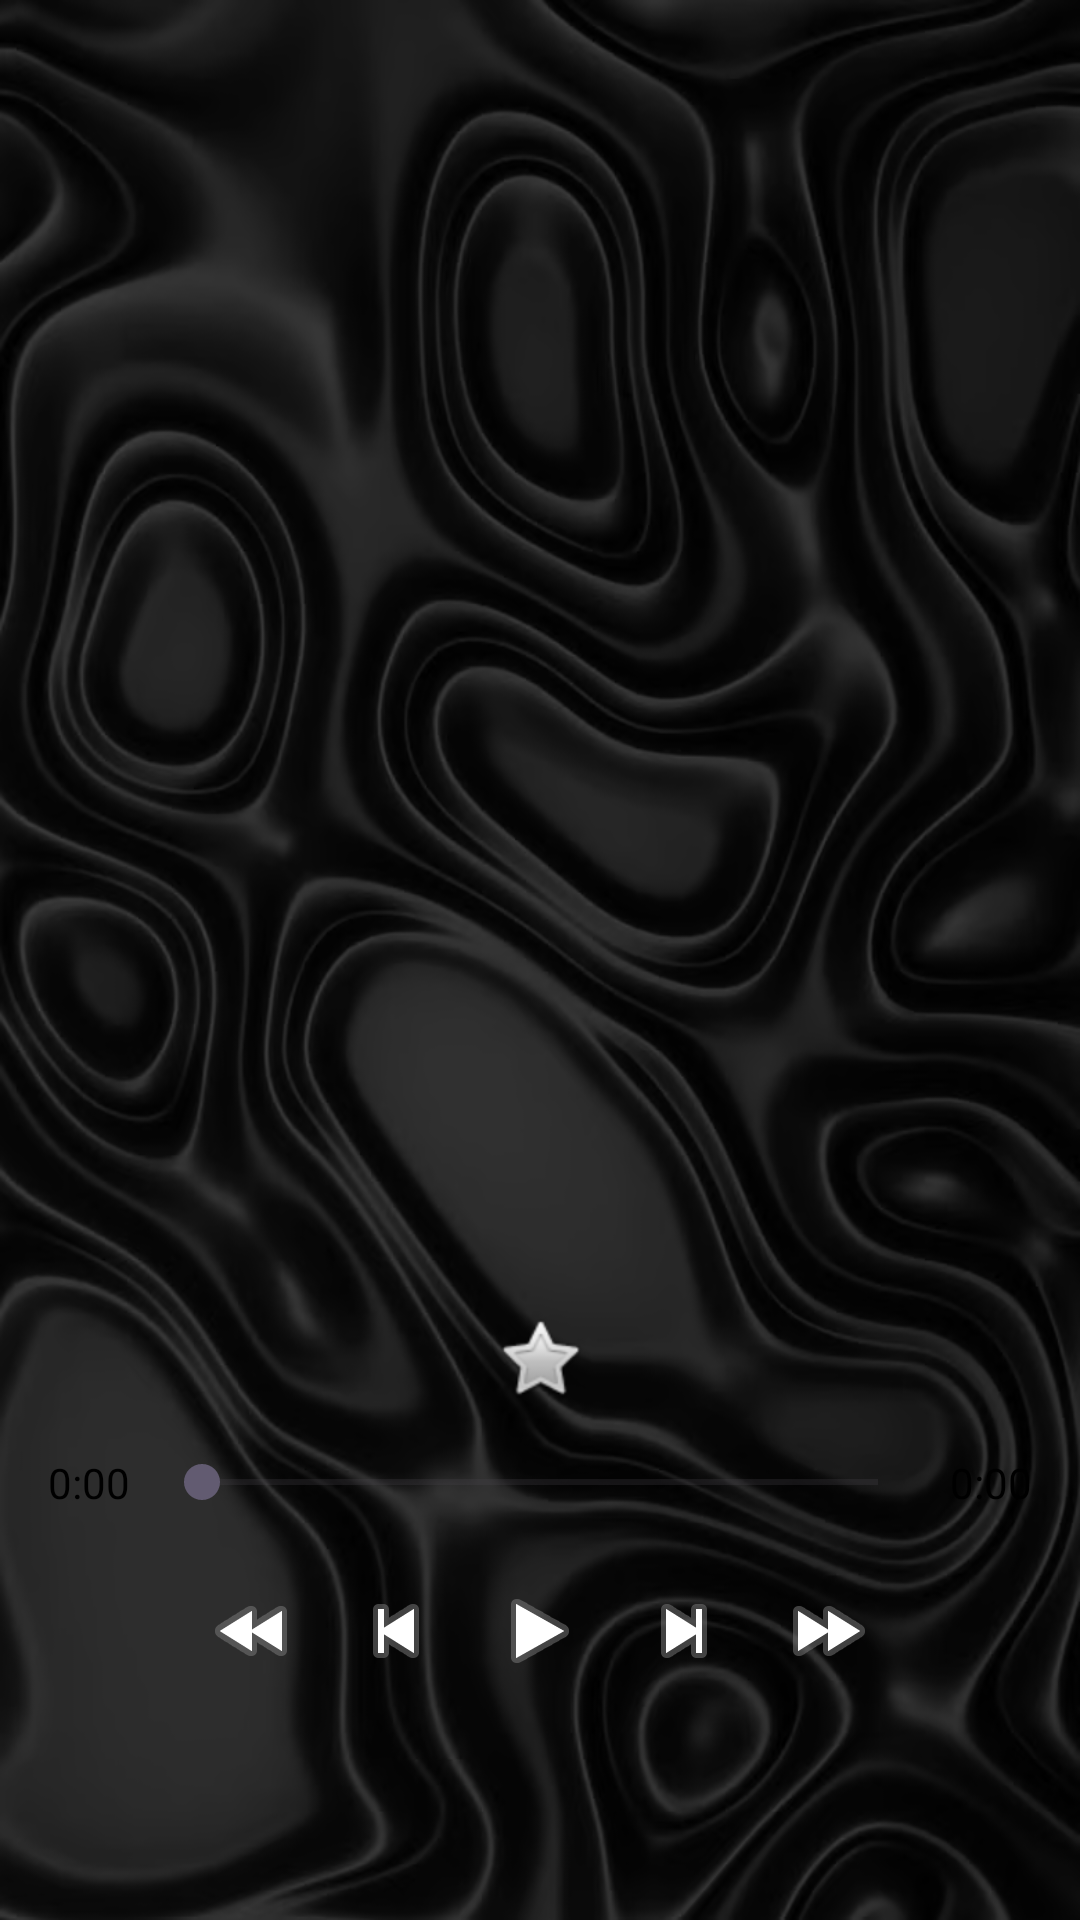

Named icons in this screenshot (1080×1920) and their centers, (x,y):
Avancer 10s: (828,1631)
Lecture: (540,1631)
Like: (540,1358)
Précédent: (396,1631)
Reculer 10s: (251,1631)
